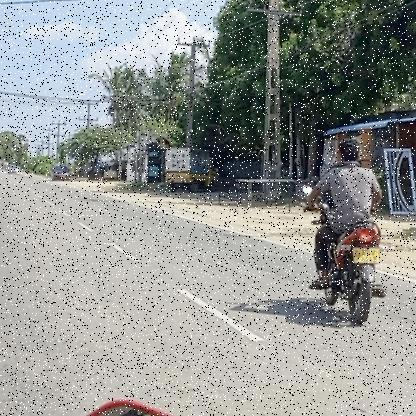motorcycle: (302, 220, 394, 327)
